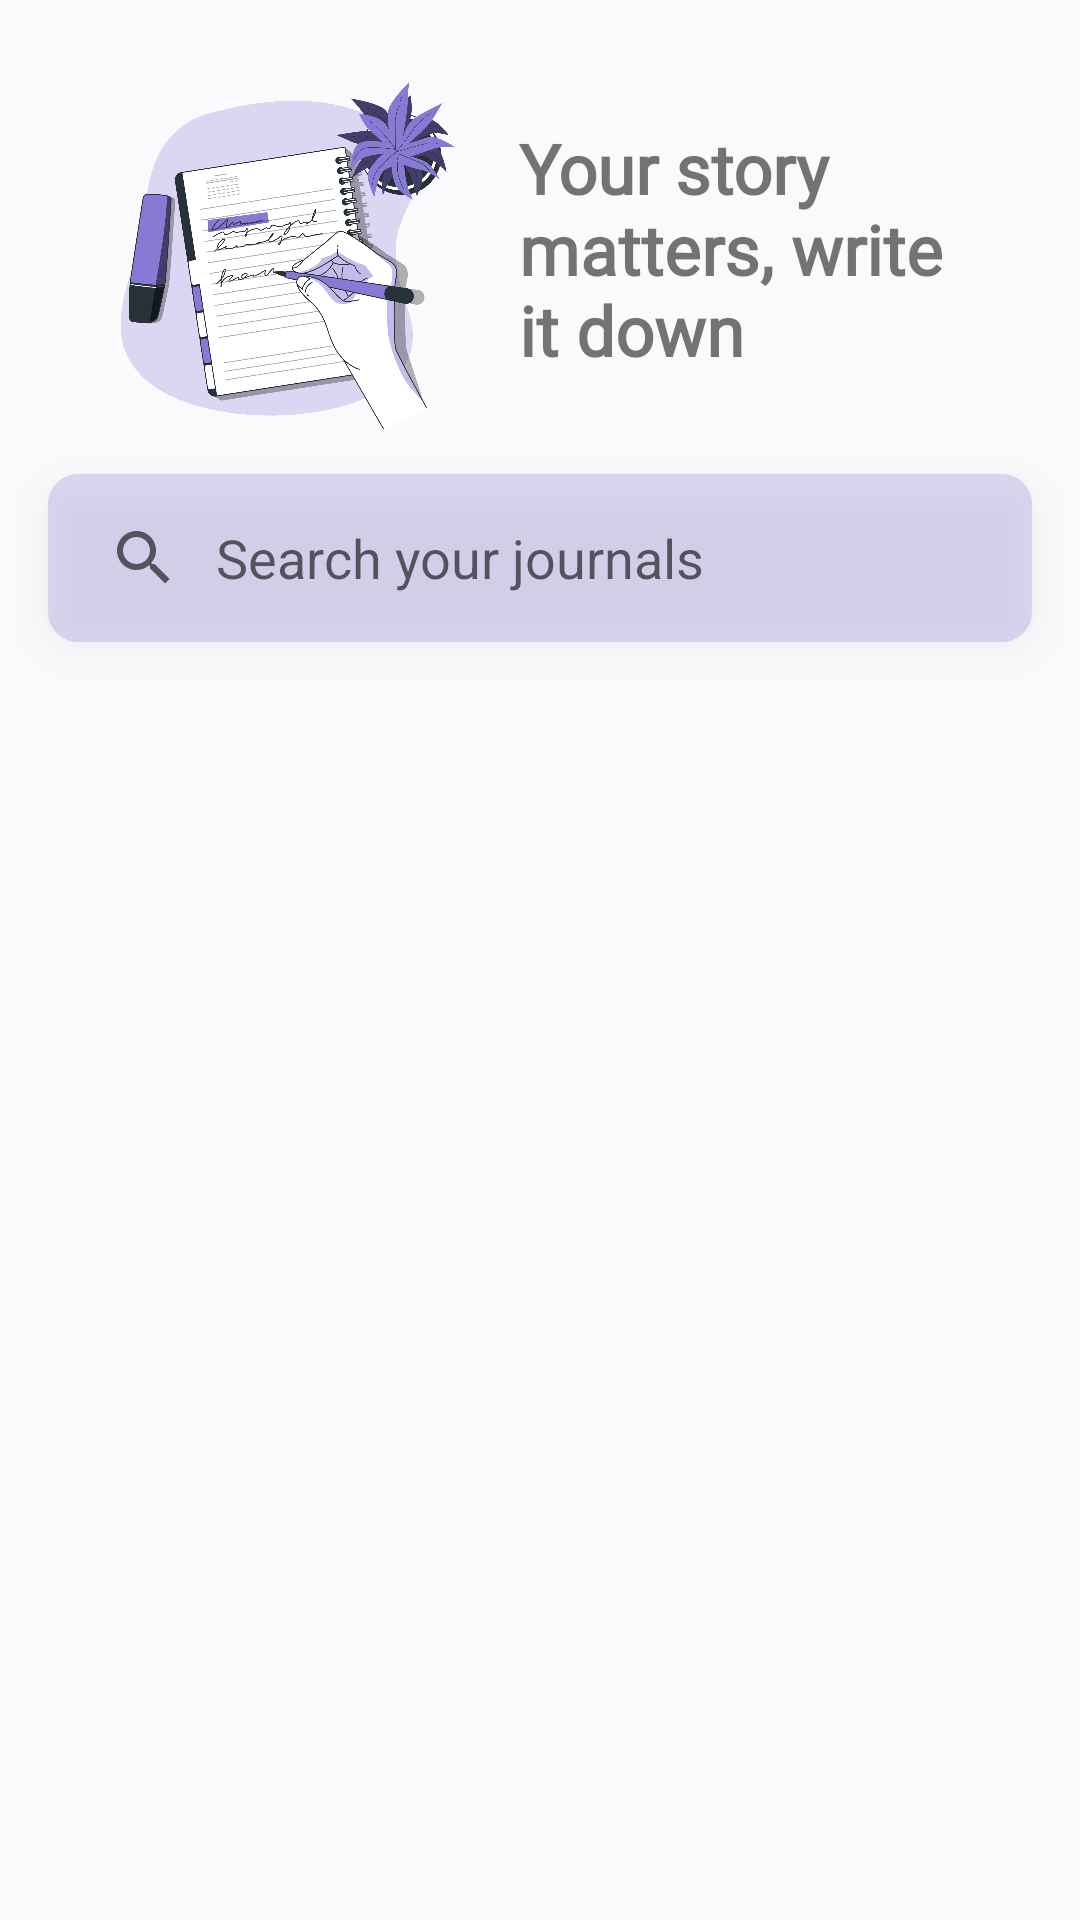

Screen size 1080 x 1920. Icon name, then its center in pixels as point (x, y):
journals: point (288, 256)
